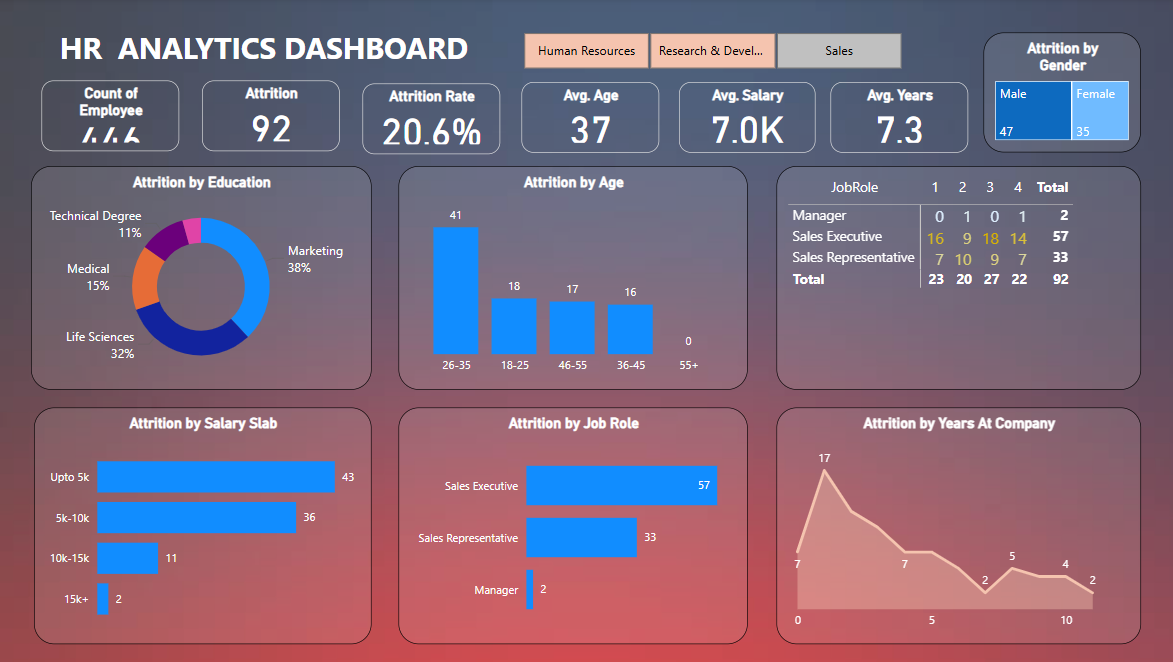

The dashboard page shown, as its layout file describes it:
{"tool":"powerbi","page":{"name":"Page 1","canvas":[1280,720],"ordinal":0},"visuals":[{"type":"card","title":"Count of Employee","fields":{"Values":["CountNonNull(HR_Analytics (2).EmpID)"]},"box":[47.2,89.5,149.6,76.4],"z":0},{"type":"card","title":"Attrition Rate","fields":{"Values":["HR_Analytics (2).AttriritionRate"]},"box":[395.3,92.7,149.6,76.4],"z":1000},{"type":"card","title":"Attrition  ","fields":{"Values":["Sum(HR_Analytics (2).Attrition - Copy)"]},"box":[221.2,89.5,149.6,76.4],"z":2000},{"type":"card","title":"Avg. Age","fields":{"Values":["Avg(HR_Analytics (2).Age)"]},"box":[567.7,91.1,149.6,76.4],"z":3000},{"type":"card","title":"Avg. Salary","fields":{"Values":["Avg(HR_Analytics (2).MonthlyIncome)"]},"box":[738.5,91.1,148,76.4],"z":4000},{"type":"card","title":"Avg. Years","fields":{"Values":["Avg(HR_Analytics (2).YearsAtCompany)"]},"box":[902.7,91.1,149.6,76.4],"z":5000},{"type":"donutChart","title":"Attrition by Education","fields":{"Category":["HR_Analytics (2).EducationField"],"Y":["Sum(HR_Analytics (2).Attrition - Copy)"]},"box":[35.8,182.2,369.2,242.4],"z":6000},{"type":"columnChart","title":"Attrition by Age","fields":{"Category":["HR_Analytics (2).AgeGroup"],"Y":["Sum(HR_Analytics (2).Attrition - Copy)"]},"box":[434.3,182.2,379,242.4],"z":7000},{"type":"pivotTable","fields":{"Rows":["HR_Analytics (2).JobRole"],"Columns":["HR_Analytics (2).JobSatisfaction"],"Values":["Sum(HR_Analytics (2).Attrition - Copy)"]},"box":[844.2,182.2,395.3,242.4],"z":8000},{"type":"barChart","title":"Attrition by Age","fields":{"Category":["HR_Analytics (2).SalarySlab"],"Y":["Sum(HR_Analytics (2).Attrition - Copy)"]},"box":[39,444,366,257],"z":9000},{"type":"barChart","title":"Attrition by Age","fields":{"Category":["HR_Analytics (2).JobRole"],"Y":["Sum(HR_Analytics (2).Attrition - Copy)"]},"box":[434.3,444,379,257],"z":10000},{"type":"areaChart","title":"Attrition by Age","fields":{"Category":["HR_Analytics (2).YearsAtCompany"],"Y":["Sum(HR_Analytics (2).Attrition - Copy)"]},"box":[844.2,444,395.3,257],"z":11000},{"type":"treemap","title":"Attrition by Age","fields":{"Group":["HR_Analytics (2).Gender"],"Values":["Sum(HR_Analytics (2).Attrition - Copy)"]},"box":[1068.6,37.4,170.8,130.1],"z":12000},{"type":"slicer","fields":{"Values":["HR_Analytics (2).Department"]},"box":[544.9,30.9,458.7,52],"z":13000},{"type":"textbox","box":[61.8,26,496.1,76.4],"z":14000}]}

Visuals, with their boxes in screenshot pixels (x1, y1, x2, y2), scaled from the page's 1280x720 canvas onto the 1173x662 screenshot:
"Count of Employee" card: 43,82,180,153
"Attrition Rate" card: 362,85,499,155
"Attrition  " card: 203,82,340,153
"Avg. Age" card: 520,84,657,154
"Avg. Salary" card: 677,84,812,154
"Avg. Years" card: 827,84,964,154
"Attrition by Education" donutChart: 33,168,371,390
"Attrition by Age" columnChart: 398,168,745,390
pivotTable - HR_Analytics (2).JobRole x HR_Analytics (2).JobSatisfaction: 774,168,1136,390
"Attrition by Age" barChart: 36,408,371,645
"Attrition by Age" barChart: 398,408,745,645
"Attrition by Age" areaChart: 774,408,1136,645
"Attrition by Age" treemap: 979,34,1136,154
slicer - HR_Analytics (2).Department: 499,28,920,76
textbox: 57,24,511,94
